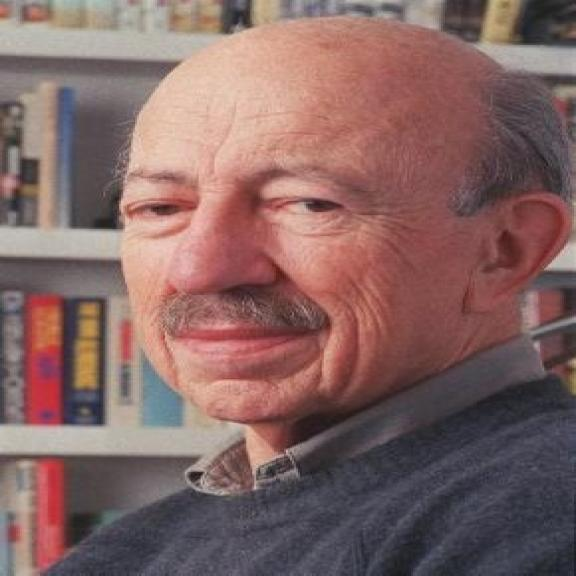face: (115, 62, 576, 432)
